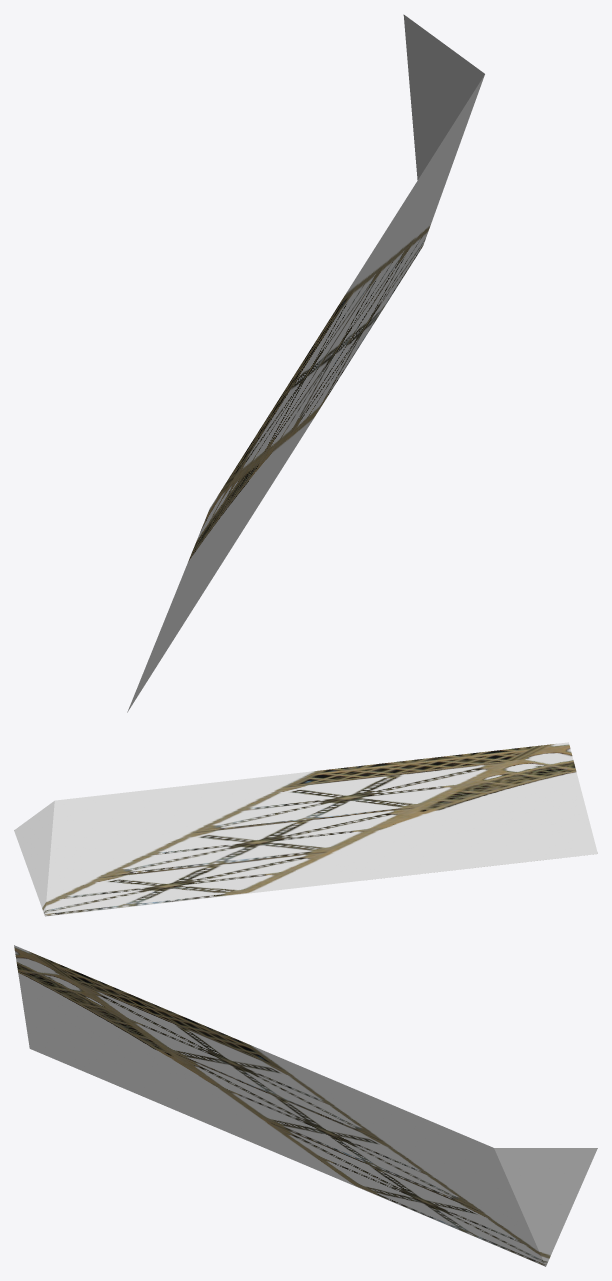
File: 埃菲尔铁塔32.dae
The picture shows the model from 3 angles, top to bottom: view 1: azimuth 30°, elevation 25°; view 2: azimuth 150°, elevation 25°; view 3: azimuth 270°, elevation 25°; orthographic projection. The views are drawn at different scales.
Visible parts, largest first — view 1: SketchUp; view 2: SketchUp; view 3: SketchUp.
Boxes of the visible parts, bbox=[...] form: SketchUp: bbox=[127, 14, 484, 712]; SketchUp: bbox=[14, 742, 597, 916]; SketchUp: bbox=[14, 945, 597, 1266].
Bounding box in the file's own units: 1033 × 1134 × 269.
